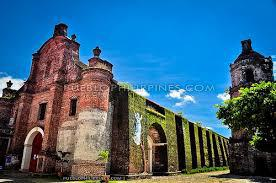Sta. Maria Church: (7, 21, 108, 177)
Unfinished Paint: (57, 110, 110, 161)
